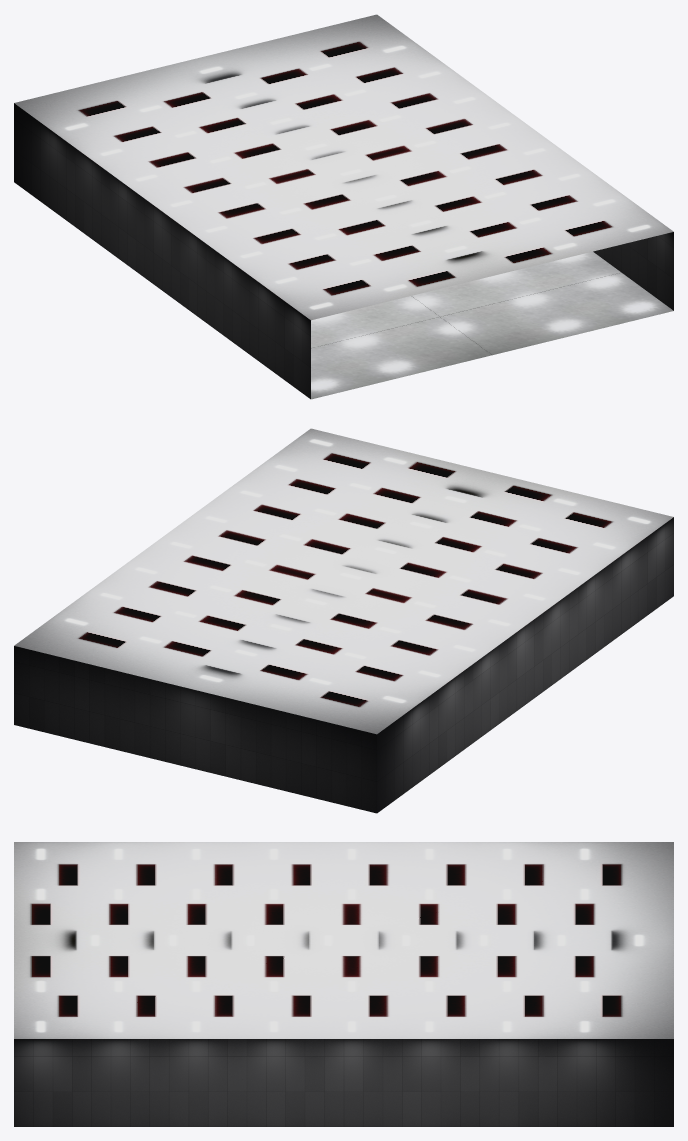
The model's file is env_indoor_05.glb.
3 renders of one model, top to bottom at view 1: azimuth 30°, elevation 25°; view 2: azimuth 150°, elevation 25°; view 3: azimuth 270°, elevation 25°, orthographic. The views are drawn at different scales.
Visible parts, largest first — view 1: ceiling, floor, wall_l, wall_r; view 2: ceiling, wall_back, wall_l; view 3: ceiling, wall_r.
Boxes of the visible parts, x1,y1,x2,y2 form: ceiling: (14,14,673,320); floor: (311,251,673,399); wall_l: (14,103,310,399); wall_r: (593,232,673,310); ceiling: (14,428,673,734); wall_back: (14,646,376,813); wall_l: (377,517,673,813); ceiling: (14,842,673,1038); wall_r: (14,1039,673,1126).
Bounding box in the file's own units: 24 × 5 × 34.
6 materials, 5 textured.
